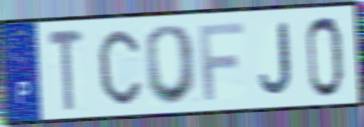0: (304, 13, 346, 99)
C: (96, 27, 144, 108)
F: (196, 20, 246, 104)
J: (257, 20, 295, 98)
O: (144, 22, 200, 107)
T: (46, 28, 87, 114)
